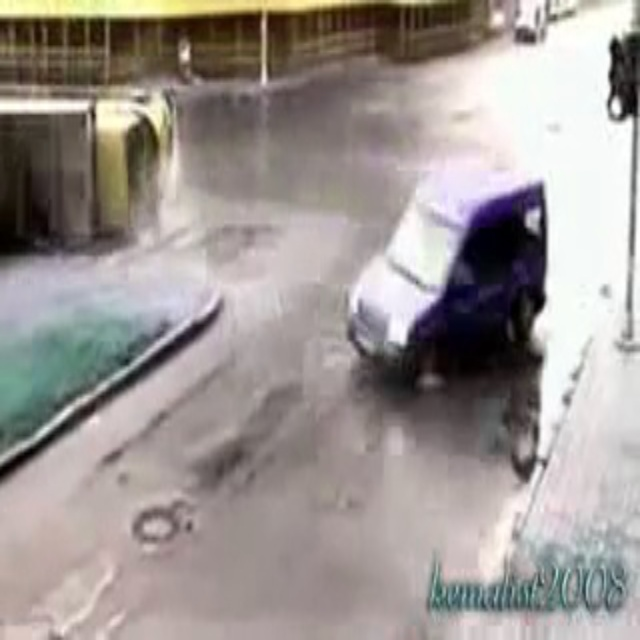acc: (2, 72, 545, 407)
